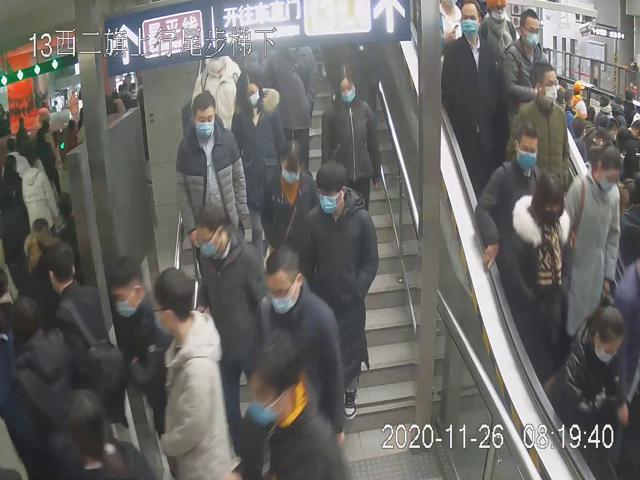person: (303, 159, 379, 418), (256, 242, 349, 444), (193, 201, 271, 437), (501, 169, 572, 366), (443, 2, 514, 190), (173, 89, 251, 248), (474, 122, 552, 271), (229, 68, 290, 225), (321, 61, 380, 220), (259, 136, 318, 247)
